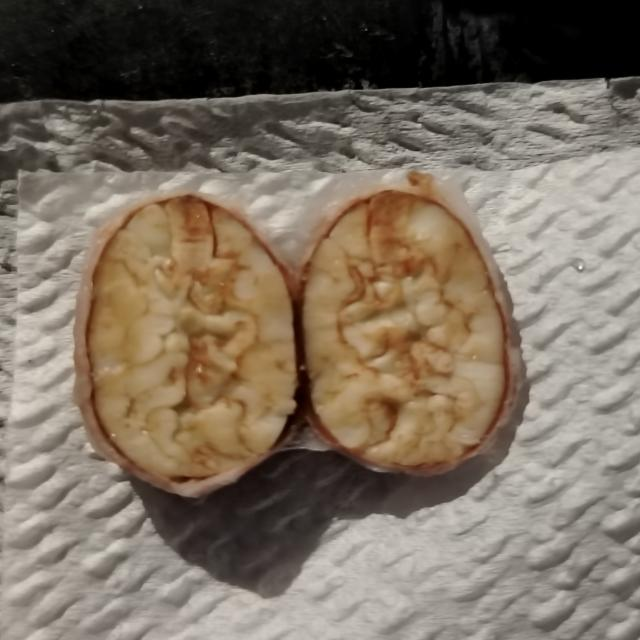Criollo: (81, 201, 298, 500), (91, 195, 298, 482), (302, 199, 509, 479)
